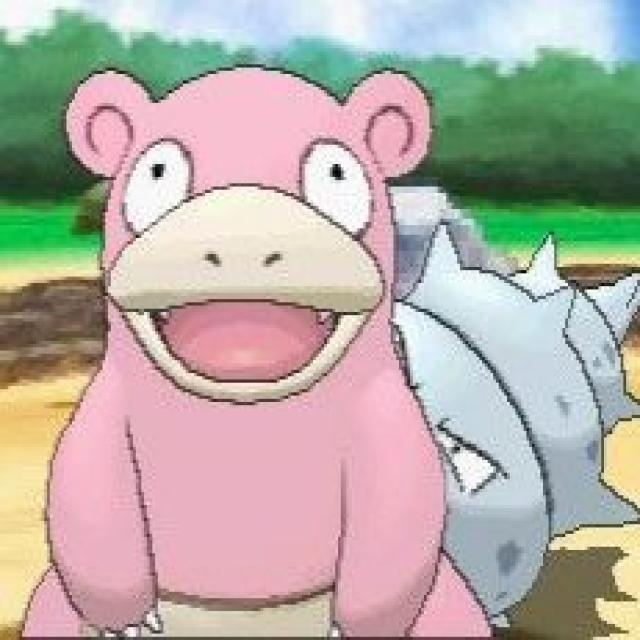Slowbro: (33, 50, 636, 634)
